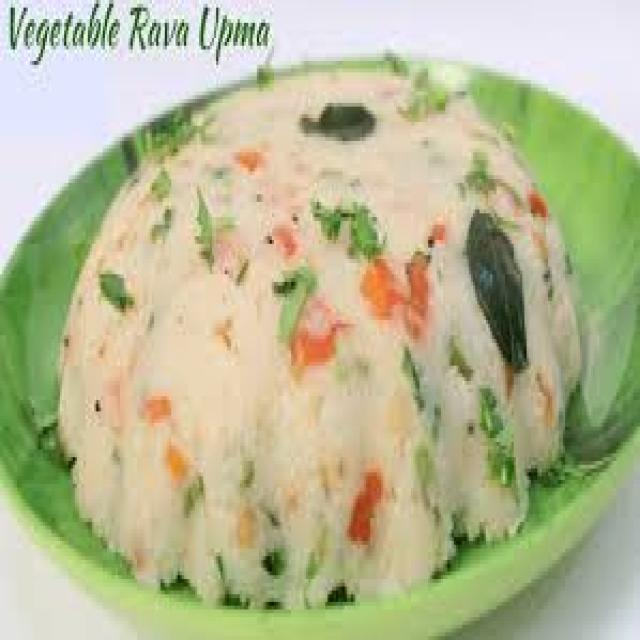Wet Waste: (71, 76, 588, 555)
